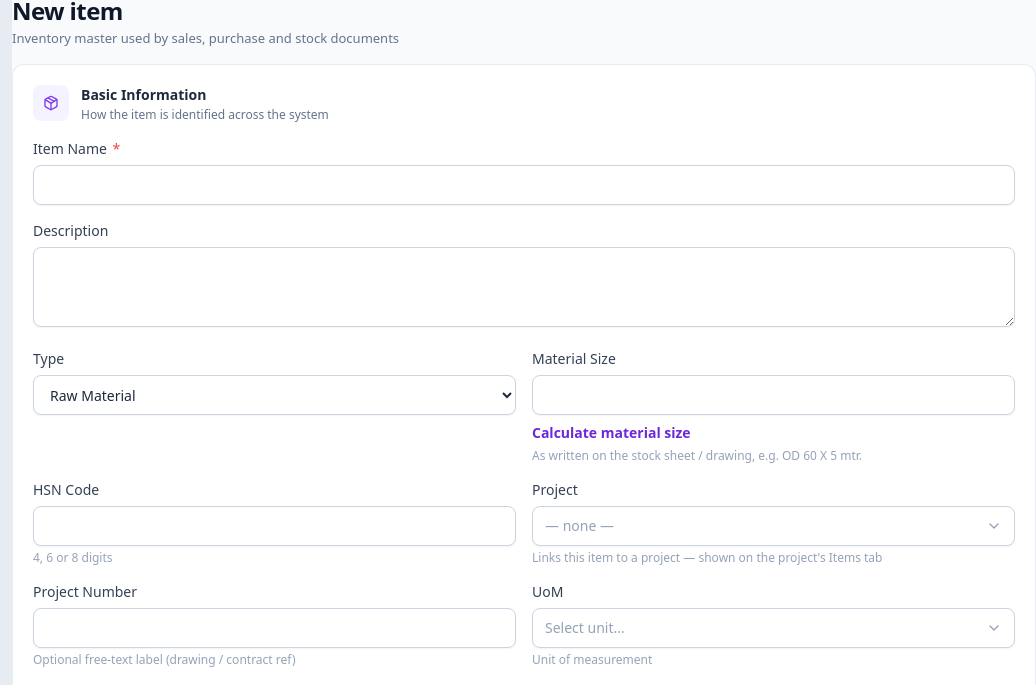
Test case: item metal calculator › restores saved calculator dimensions and rate when reopened
Type "Steel round bar" into the field labelled "Item Name *" at (524, 185), box x1=33 y1=165 x2=1015 y2=205
Click the button "Calculate material size" at (611, 433), box x1=532 y1=423 x2=691 y2=443
(page scrolled)
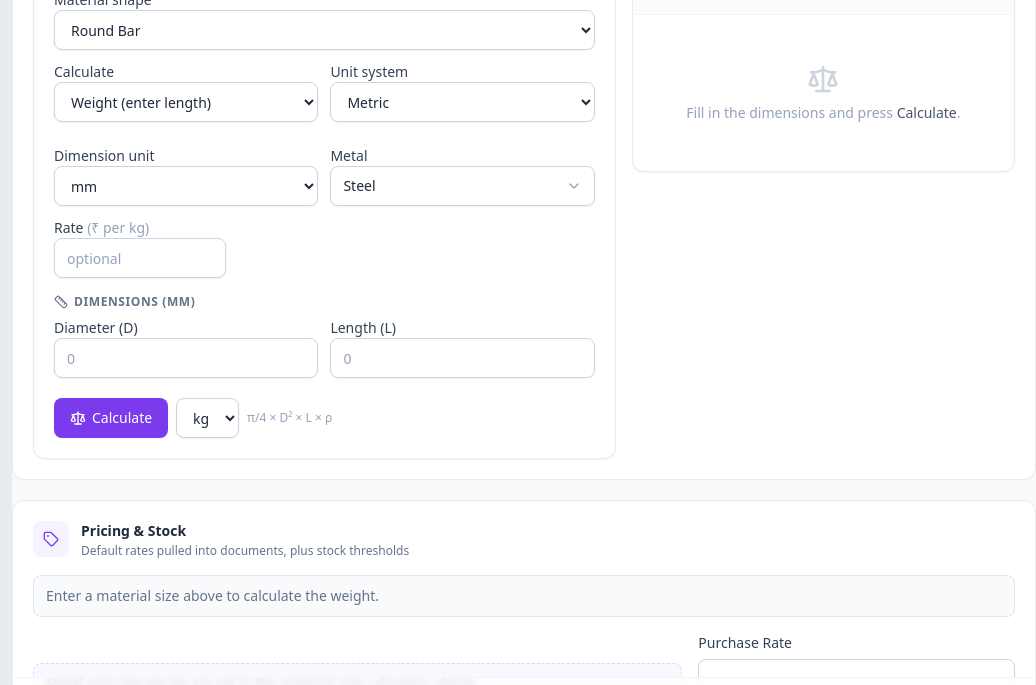
Now the dropdown labelled "Material shape" is shown, box x1=54 y1=10 x2=595 y2=50
Type "100" into the number field with id "mc-d" at (186, 358), box x1=54 y1=338 x2=318 y2=378
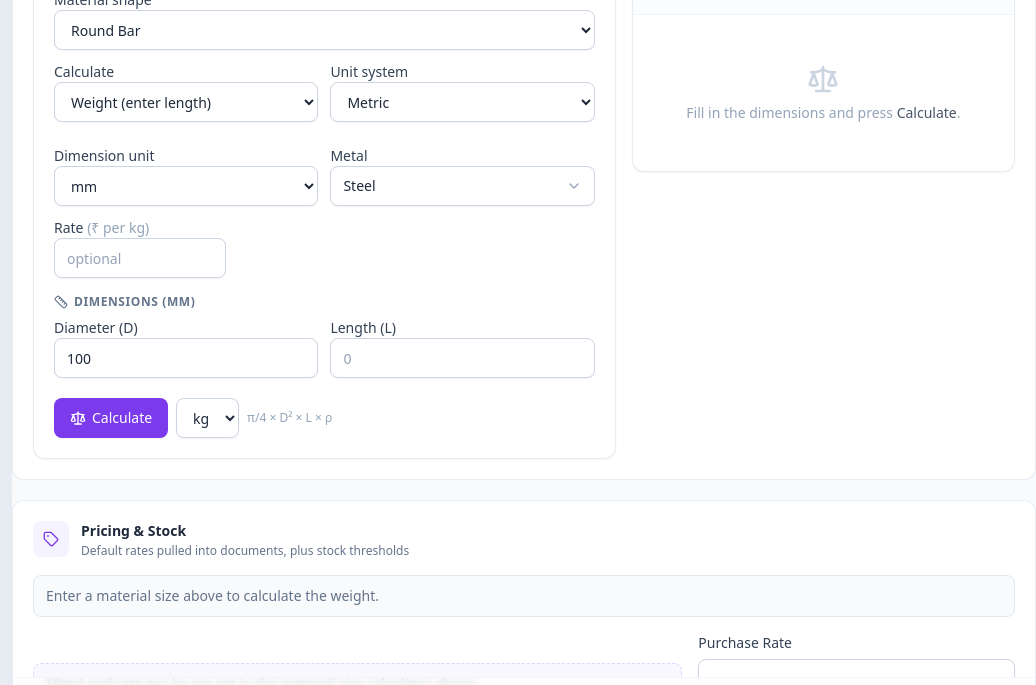
Type "1000" into the number field with id "mc-L" at (463, 358), box x1=330 y1=338 x2=595 y2=378
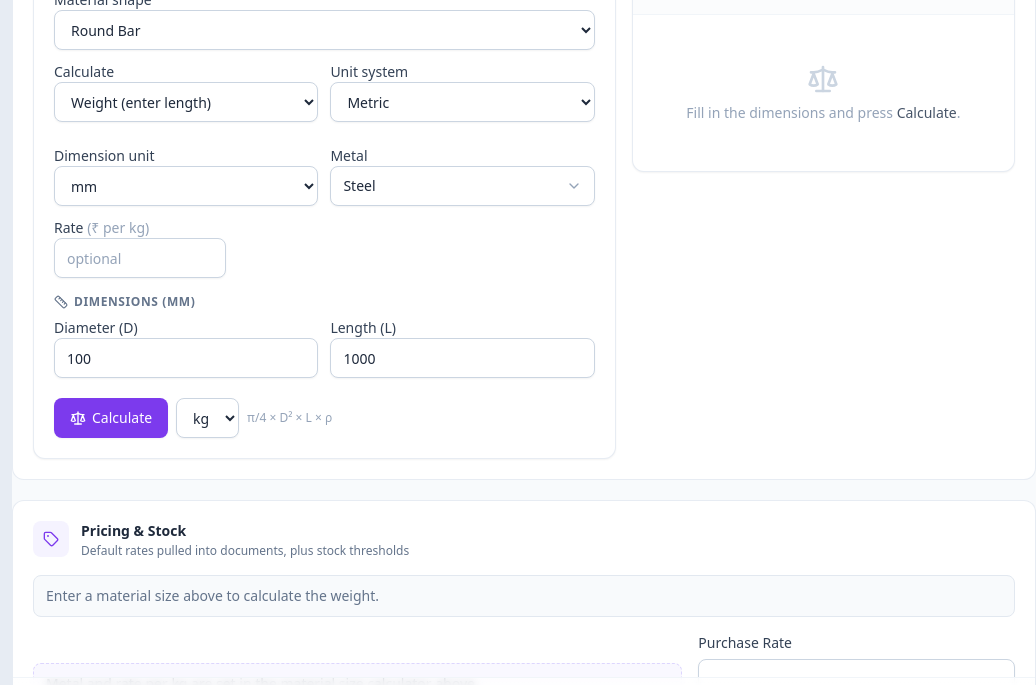
Type "100" into the number field with id "mc-rate" at (140, 258), box x1=54 y1=238 x2=226 y2=278
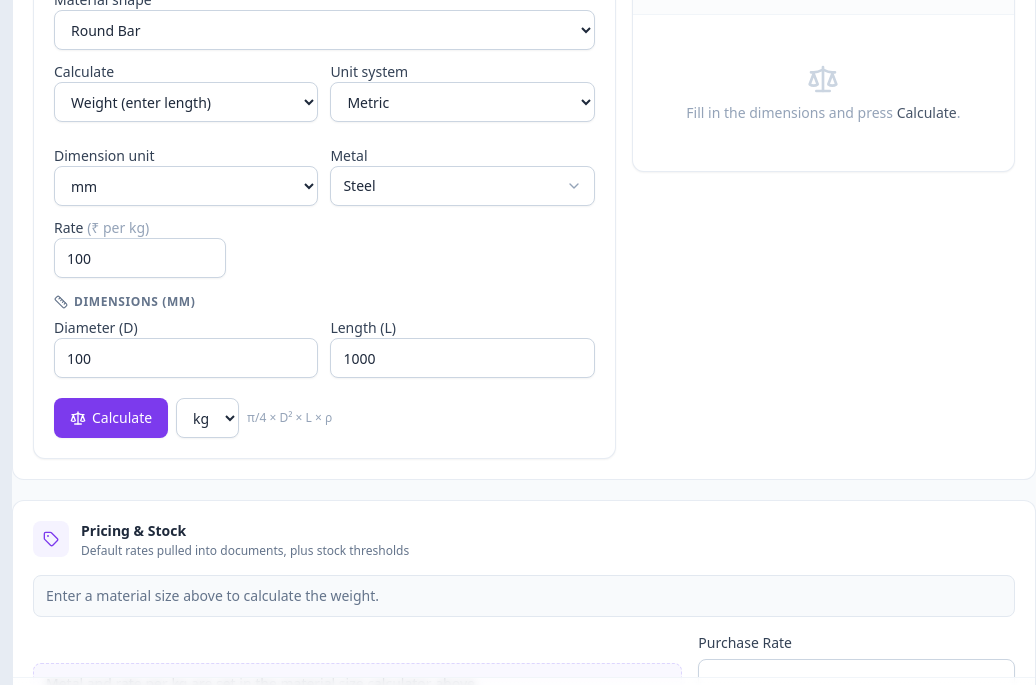
Click the button "Calculate" at (111, 418), box x1=54 y1=398 x2=168 y2=438
(page scrolled)
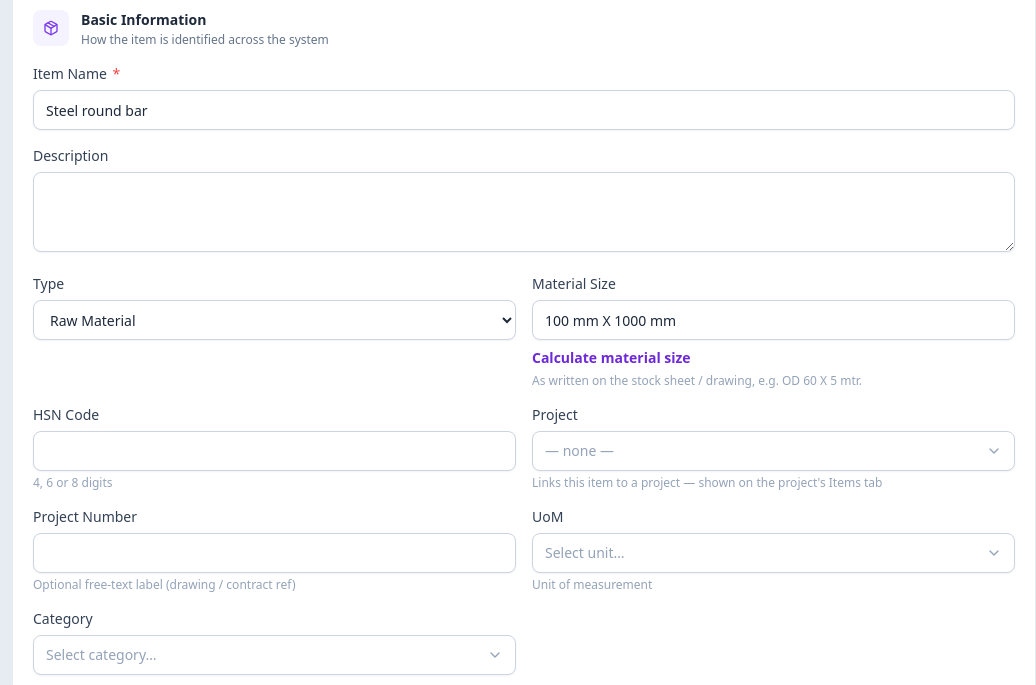
Click the button "Calculate material size" at (611, 358), box x1=532 y1=348 x2=691 y2=368
(page scrolled)
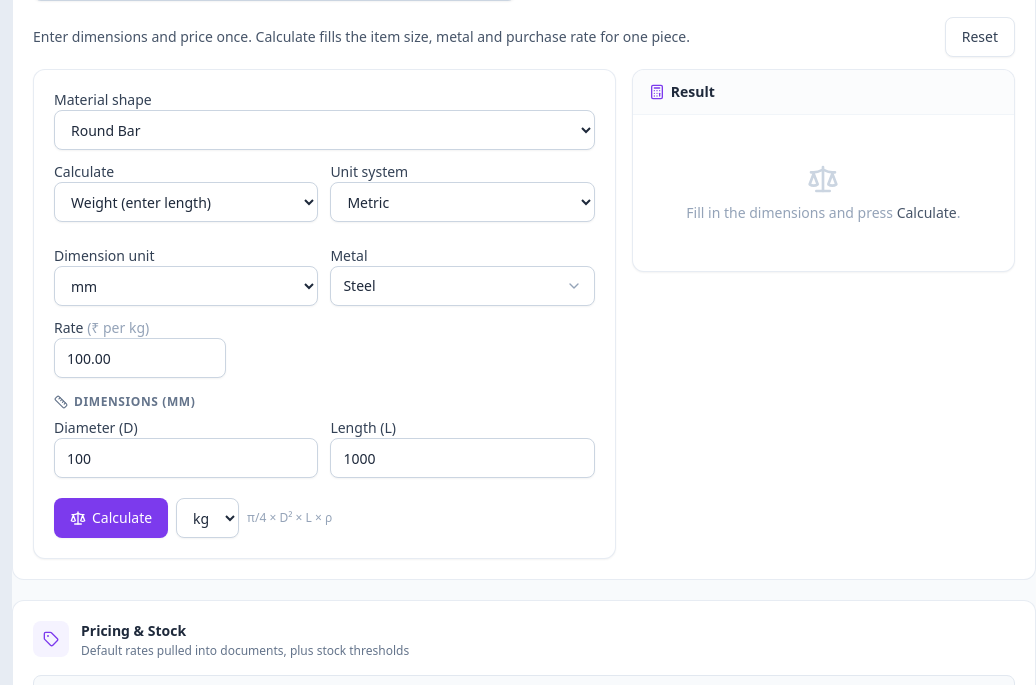
Now the dropdown labelled "Material shape" is shown, box x1=54 y1=110 x2=595 y2=150
Now the number field with id "mc-d" holds "100", box x1=54 y1=438 x2=318 y2=478
Now the number field with id "mc-L" holds "1000", box x1=330 y1=438 x2=595 y2=478
